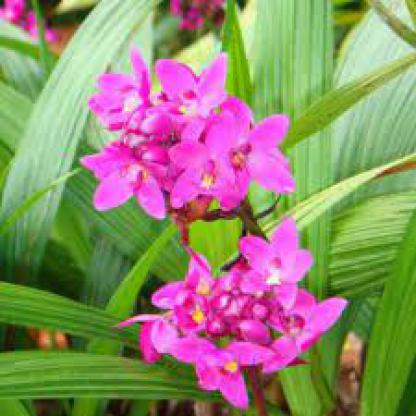ANGGREK: (70, 49, 353, 399)
